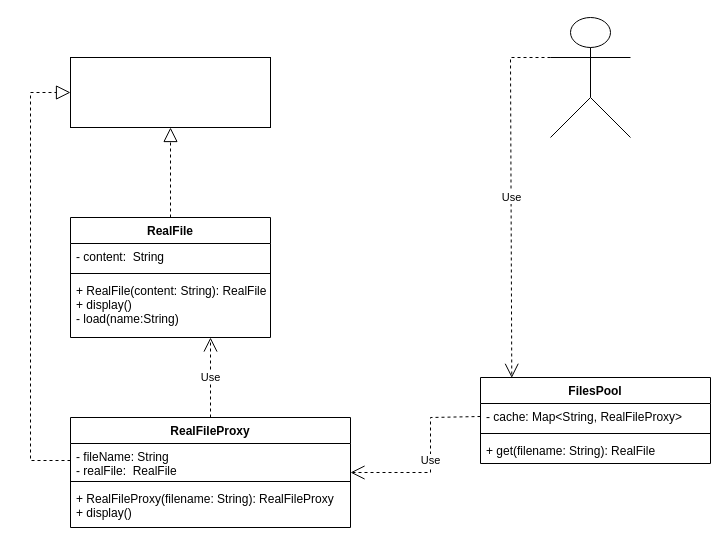
The diagram is 728 pixels wide and 548 high, and some of its shapes have lost their labels. The box of each missing label's shape, as (x1, y1, x2, y2) in pixels:
<<Interface>> File + display(): (70, 56, 270, 128)
Actor: (550, 16, 630, 138)
